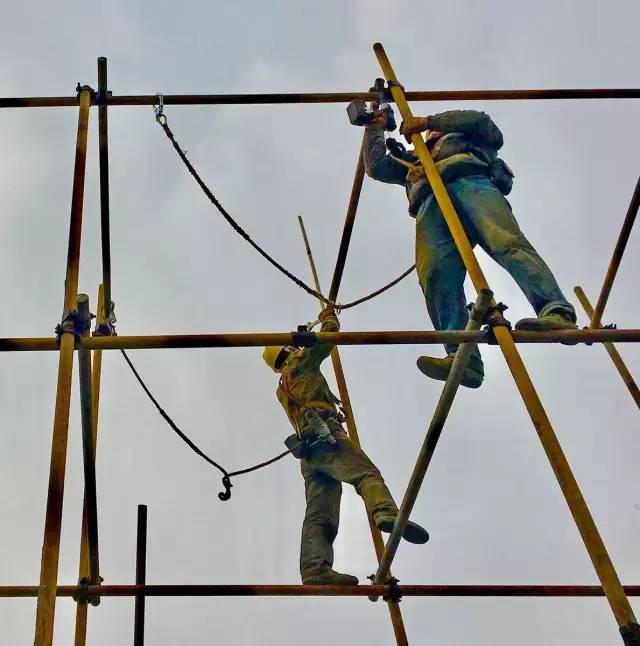helmet: (263, 345, 289, 373)
